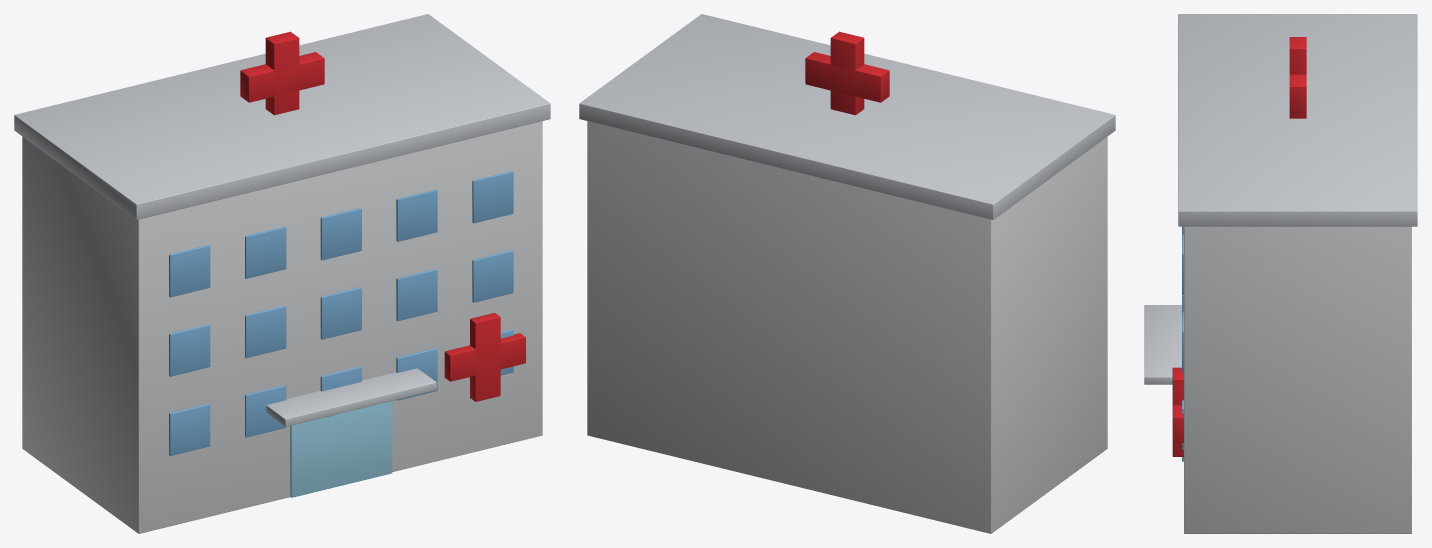
The model's file is hospital_ext.glb.
3 views of the same model, side by side, from view 1: azimuth 30°, elevation 25°; view 2: azimuth 150°, elevation 25°; view 3: azimuth 270°, elevation 25° (orthographic). The views are drawn at different scales.
Parts seen in each view (by area): view 1: hospital_ext; view 2: hospital_ext; view 3: hospital_ext.
Boxes of the visible parts, x1,y1,x2,y2 form: hospital_ext: (14,14,550,533); hospital_ext: (579,14,1115,533); hospital_ext: (1144,14,1417,533).
Bounding box in the file's own units: 16.4 × 15.3 × 9.6.
